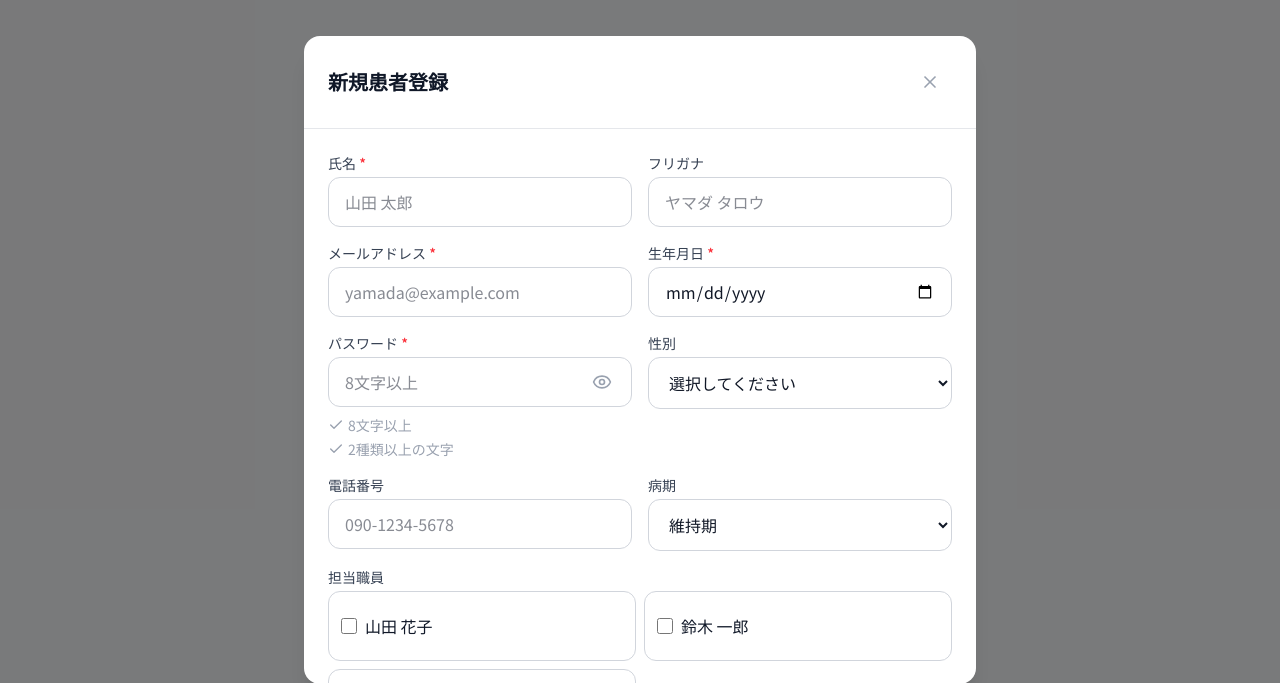
Test: PatientCreateDialog › form validation › should show error for invalid email format
Type "テスト太郎" into the field labelled "氏名 *" at coordinates (480, 202), box [328,177,632,227]
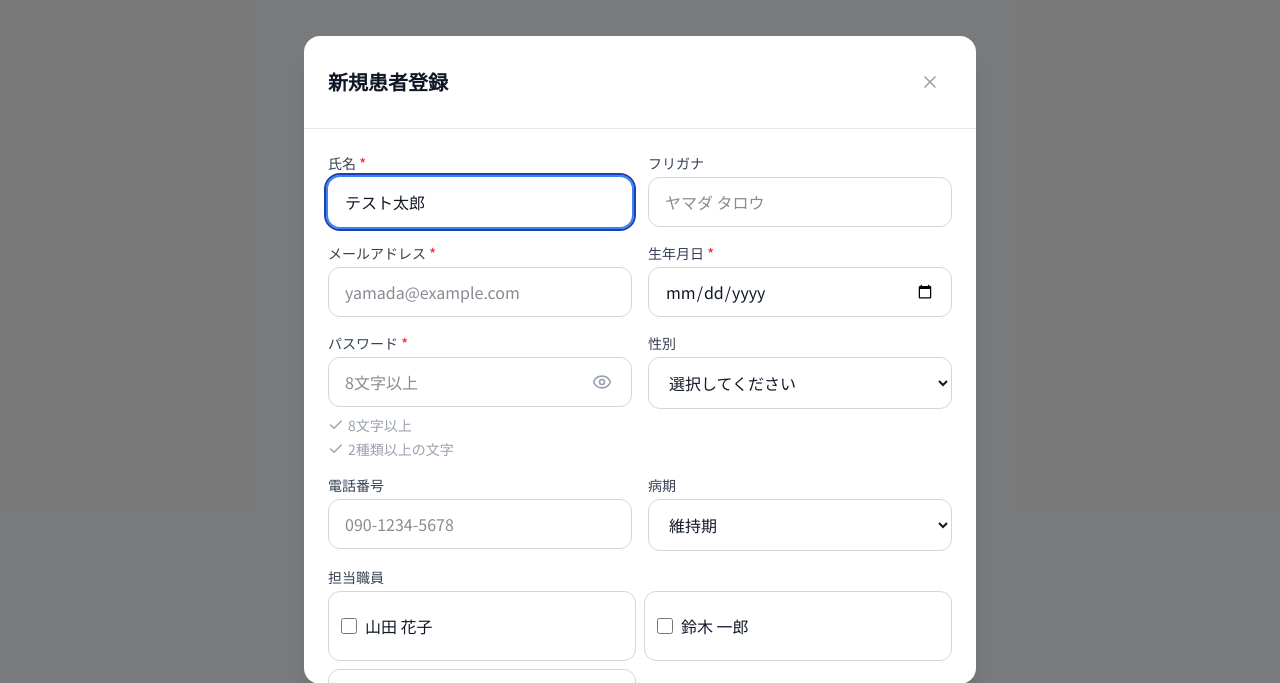
Type "1980-01-01" into the date field labelled "生年月日 *" at coordinates (800, 292), box [648,267,952,317]
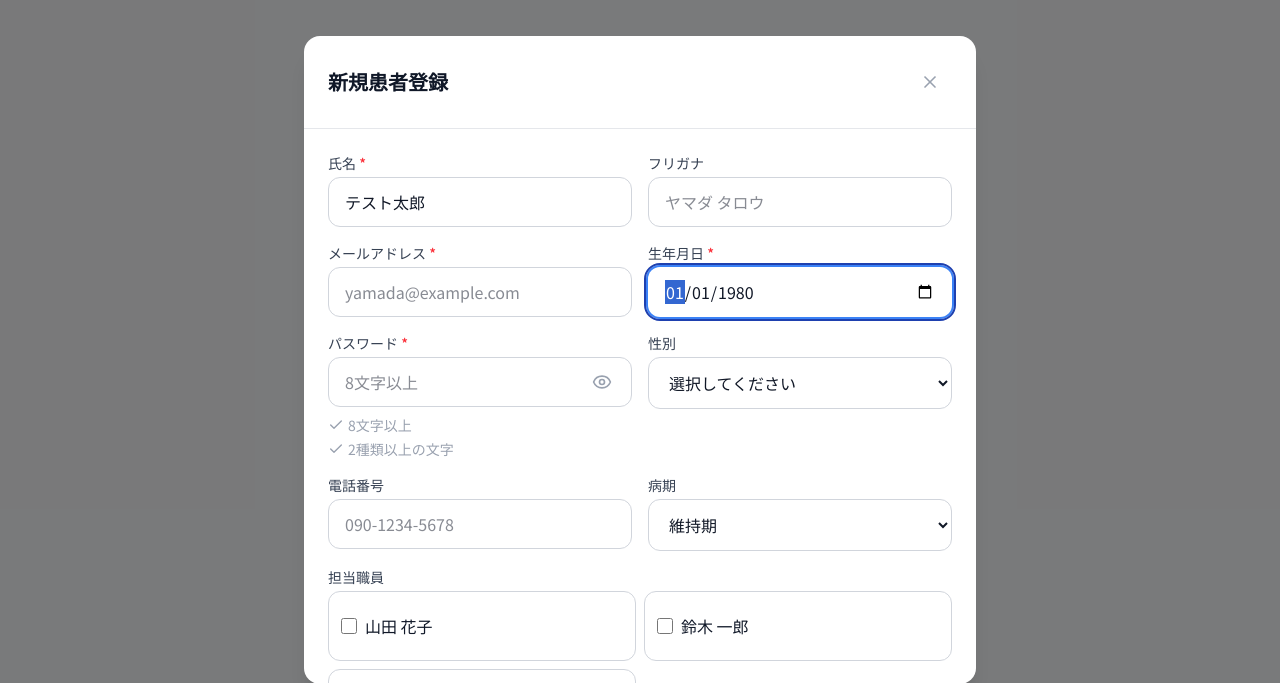
Type "Password1!" into the password field labelled "パスワード *" at coordinates (480, 382), box [328,357,632,407]
(page scrolled)
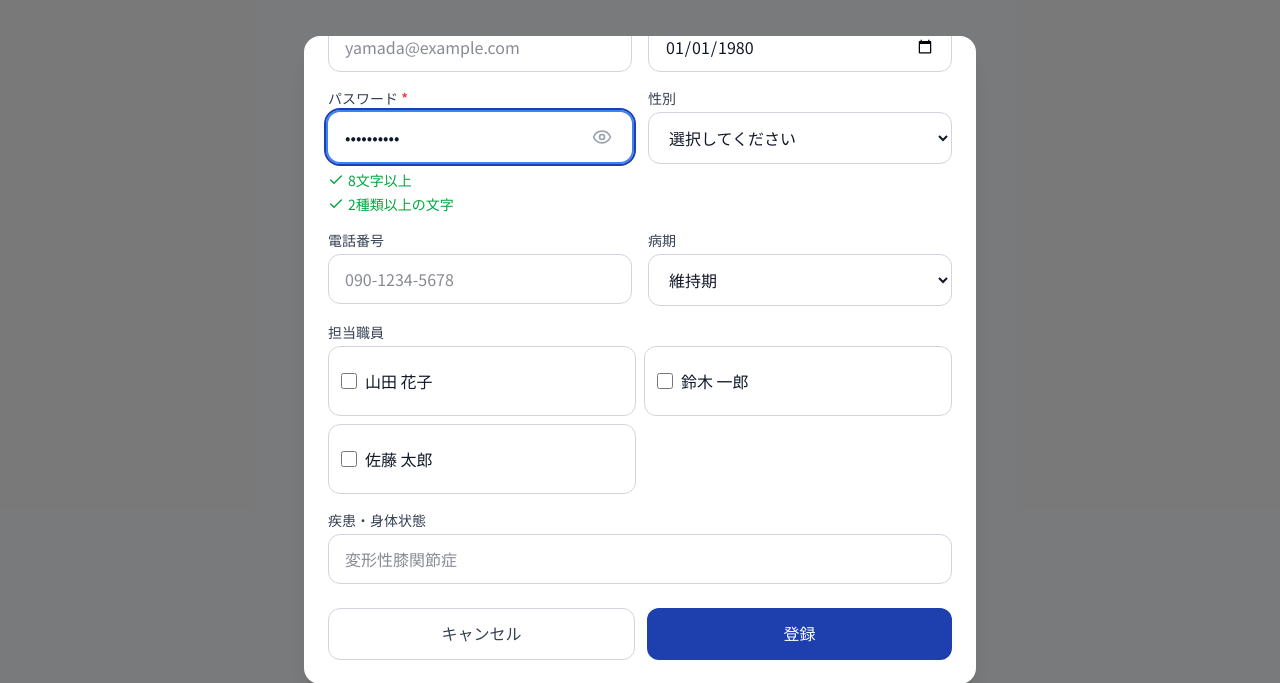
Click the button "登録" at coordinates (800, 634), box [647,608,952,660]
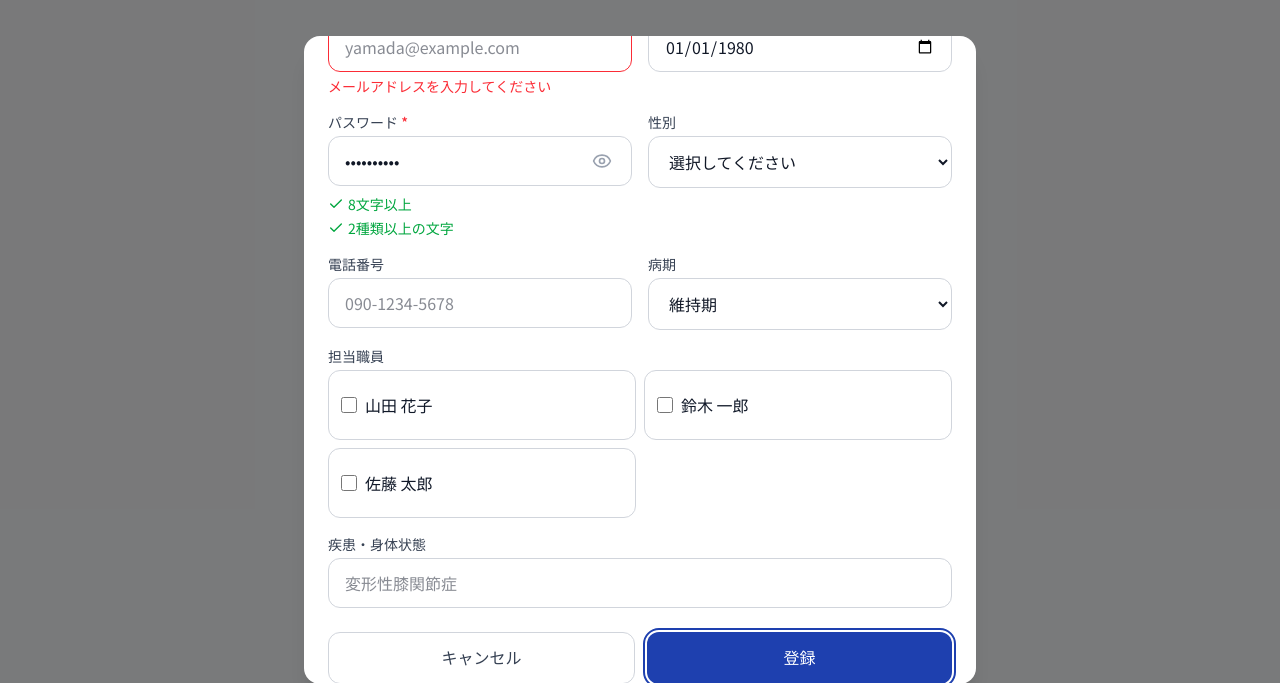
Result: the text "メールアドレスを入力してください" is shown at [328,76,551,96]
